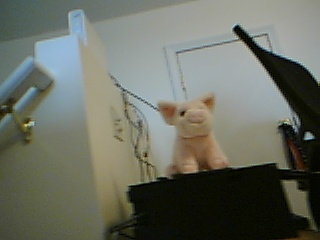piggy: (157, 90, 231, 176)
